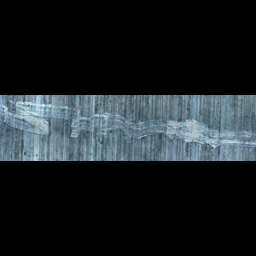d: (1, 98, 256, 151)
